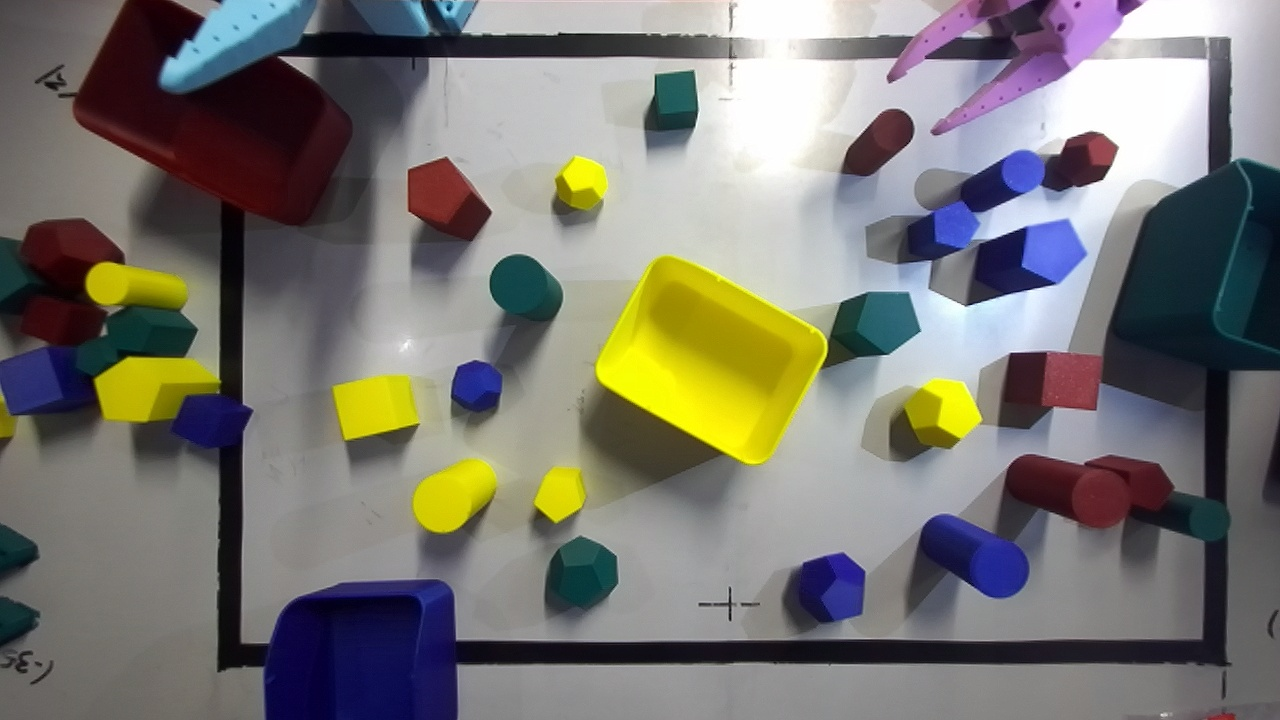bin: (72, 0, 351, 224), (595, 255, 826, 463), (1111, 159, 1279, 369), (263, 579, 456, 719)
cube: (1004, 351, 1101, 409), (332, 375, 418, 440), (644, 70, 698, 130)
cylinder: (1005, 454, 1130, 527), (920, 514, 1029, 597), (412, 460, 496, 533), (961, 150, 1044, 211), (1131, 491, 1230, 541), (841, 109, 913, 176), (490, 254, 562, 320)
dodecahedron: (904, 378, 981, 447), (546, 536, 617, 608), (1058, 131, 1117, 185), (555, 156, 607, 209), (451, 360, 502, 411)
hexagonal: (976, 219, 1086, 293), (407, 157, 491, 239), (832, 292, 919, 355), (1085, 455, 1173, 510), (908, 201, 978, 258)
